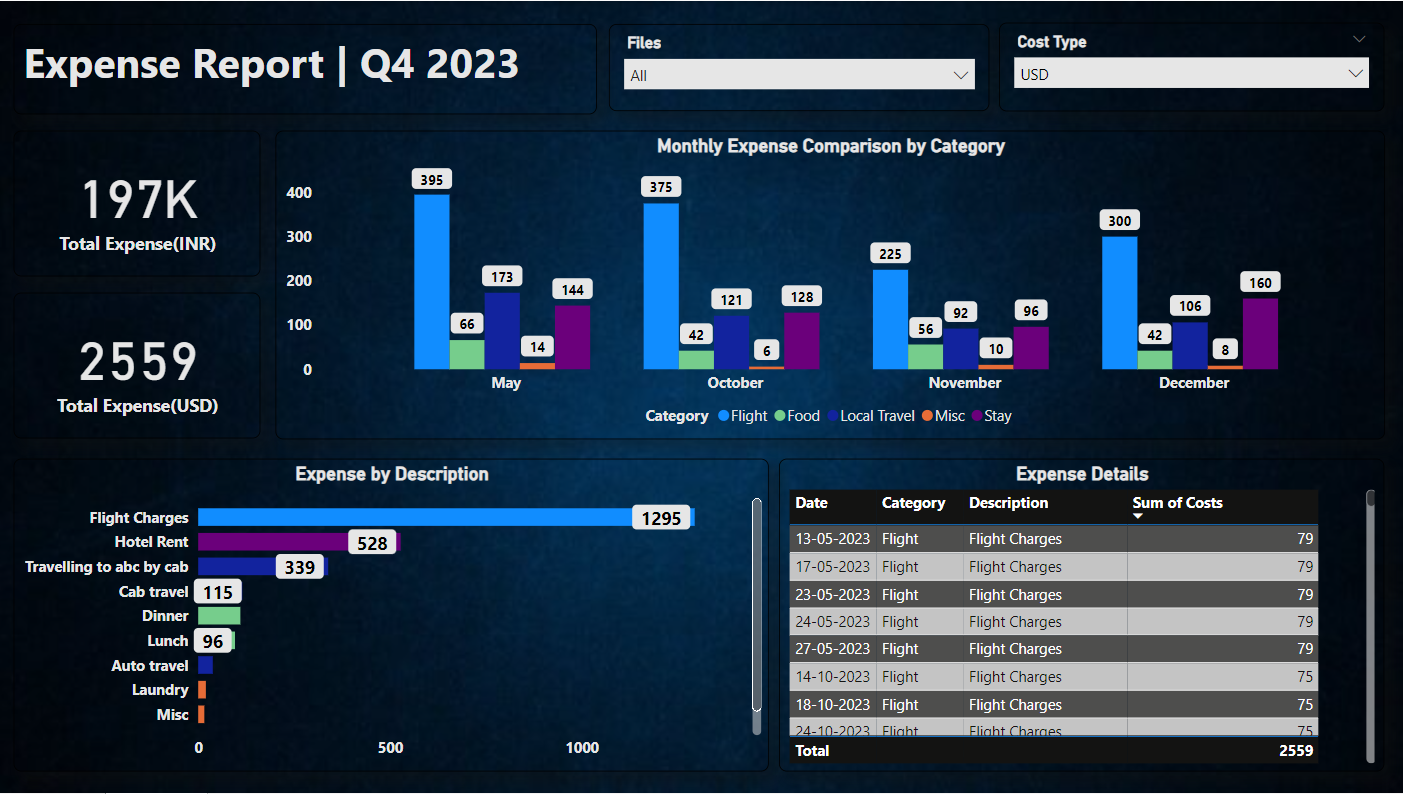

What the dashboard file says about the page in this screenshot:
{"tool":"powerbi","page":{"name":"Expense Report","canvas":[1280,720],"ordinal":0},"visuals":[{"type":"slicer","fields":{"Values":["Expenses.Files"]},"box":[556.9,21.5,346.2,79.2],"z":0},{"type":"slicer","fields":{"Values":["Expenses.Cost Type"]},"box":[912.4,20.1,350.2,80.5],"z":1000},{"type":"card","fields":{"Values":["Sum(Expenses.Costs)"]},"box":[16.1,118.1,224.1,132.8],"z":2000},{"type":"card","fields":{"Values":["Sum(Expenses.Costs)"]},"box":[16.1,265.7,224.1,132.8],"z":3000},{"type":"textbox","box":[16.1,21.5,530,81.9],"z":4000},{"type":"lineClusteredColumnComboChart","title":"Monthly Expense Comparison by Category","fields":{"Category":["Expenses.Date.Variation.Date Hierarchy.Month"],"Y":["Sum(Expenses.Costs)"],"Series":["Expenses.Category"]},"box":[259,118.1,1003.7,280.4],"z":5000},{"type":"barChart","title":"Expense by Description","fields":{"Category":["Expenses.Description"],"Y":["Sum(Expenses.Costs)"],"Series":["Expenses.Category"]},"box":[16.1,416,687,284.5],"z":6000},{"type":"tableEx","title":"Expense Details","fields":{"Values":["Expenses.Date","Expenses.Category","Expenses.Description","Sum(Expenses.Costs)"]},"box":[712.5,416,550.2,284.5],"z":7000}]}

Visuals, with their boxes in screenshot pixels (x1, y1, x2, y2), scaled from the page's 1280x720 canvas onto the 1403x794 screenshot:
slicer - Expenses.Files: (610,24,990,111)
slicer - Expenses.Cost Type: (1000,22,1384,111)
card - Sum(Expenses.Costs): (18,130,263,277)
card - Sum(Expenses.Costs): (18,293,263,439)
textbox: (18,24,599,114)
"Monthly Expense Comparison by Category" lineClusteredColumnComboChart: (284,130,1384,439)
"Expense by Description" barChart: (18,459,771,772)
"Expense Details" tableEx: (781,459,1384,772)
